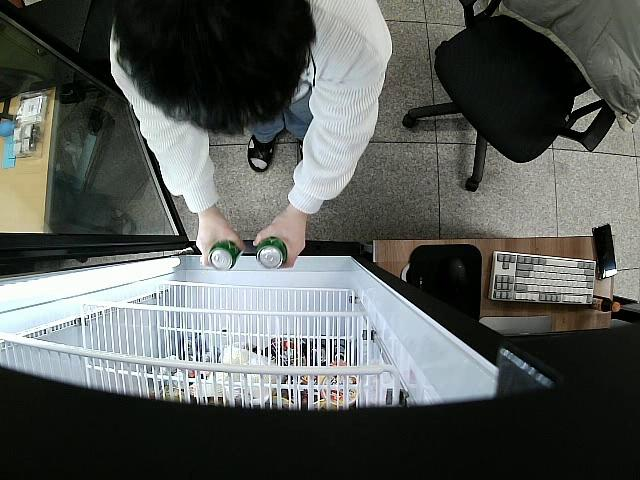00_hand: (254, 210, 306, 267), (195, 212, 245, 266)
12_chilsungCider: (258, 237, 288, 271), (209, 240, 242, 270)
